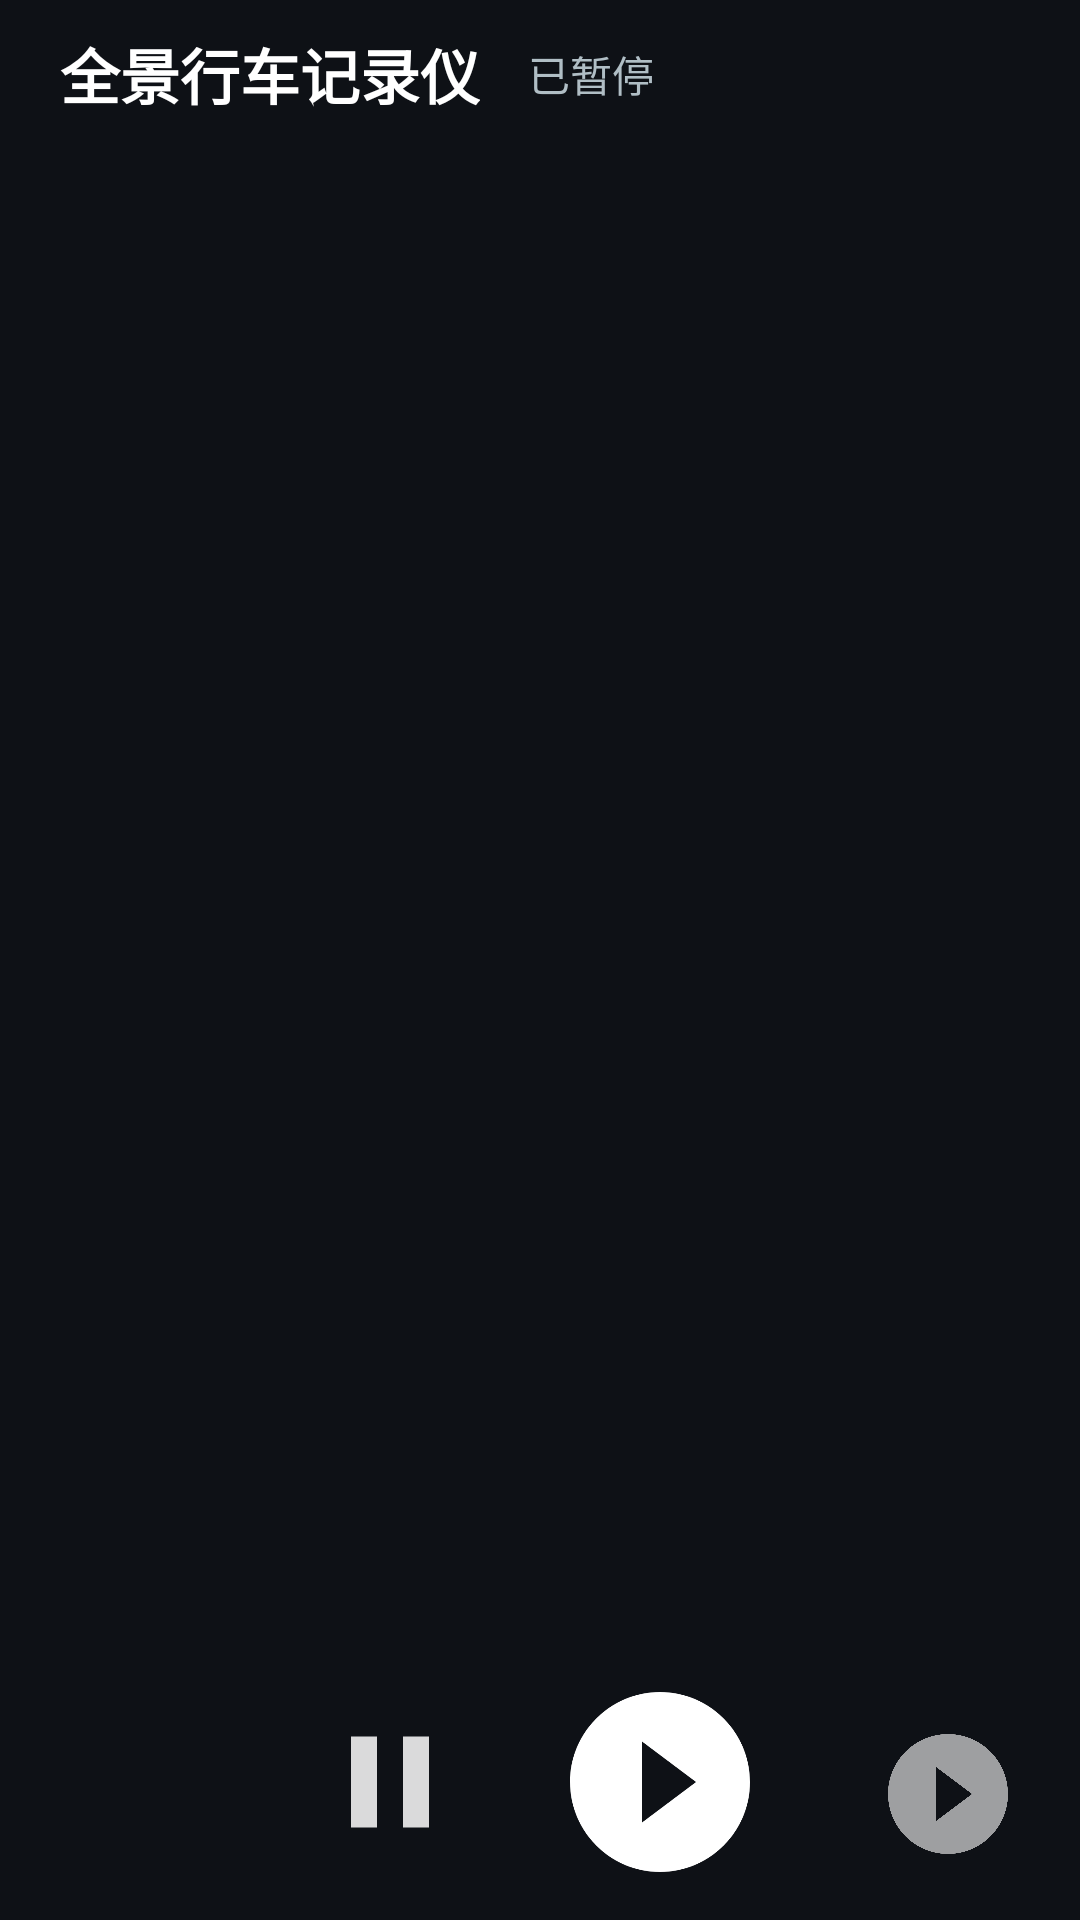

Where to tap for icons on this 1080 x 1920 app screen, as (x,y):
回放: (948,1794)
暂停: (390,1782)
